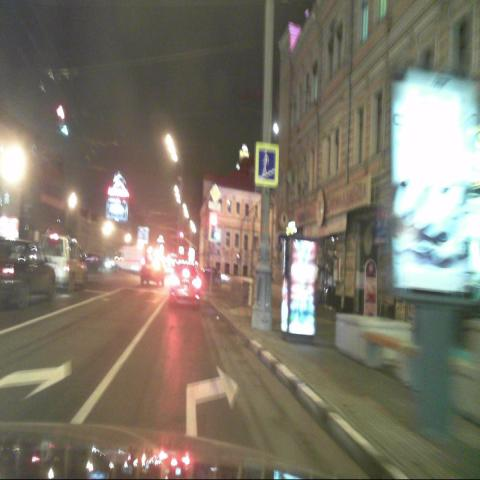6_6: (254, 141, 279, 186)
